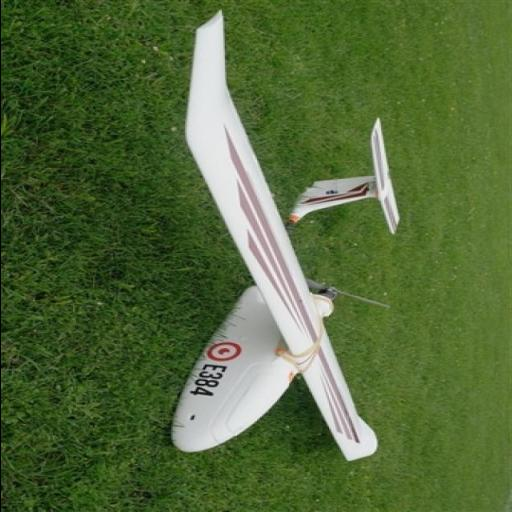uav: (162, 10, 406, 460)
